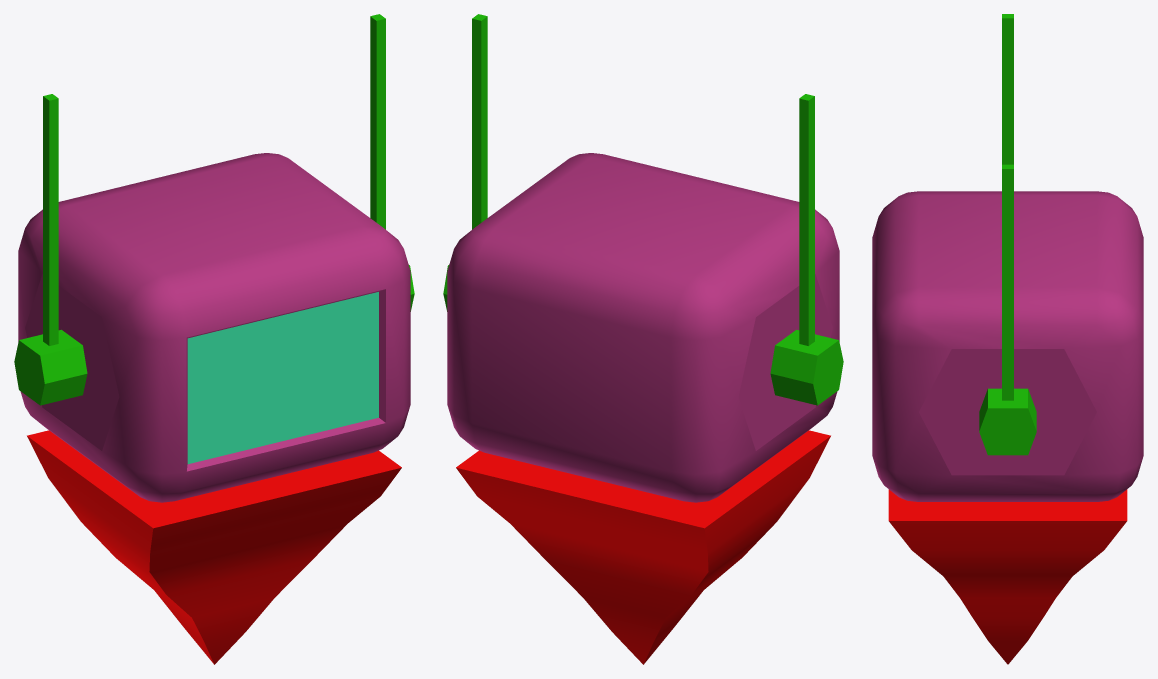
File: mesh_evilbot.FBX
3 renders of one model, left to right at view 1: azimuth 30°, elevation 25°; view 2: azimuth 150°, elevation 25°; view 3: azimuth 270°, elevation 25°, orthographic. The views are drawn at different scales.
Visible parts, largest first — view 1: ChamferBox001, Pyramid001; view 2: ChamferBox001, Pyramid001; view 3: ChamferBox001, Pyramid001.
Boxes of the visible parts, x1,y1,x2,y2 form: ChamferBox001: (14, 14, 414, 502); Pyramid001: (27, 430, 401, 664); ChamferBox001: (443, 14, 843, 502); Pyramid001: (456, 430, 830, 664); ChamferBox001: (872, 14, 1143, 501); Pyramid001: (888, 489, 1127, 664).
Size of the model in its own units: 52 by 81.64 by 35.
